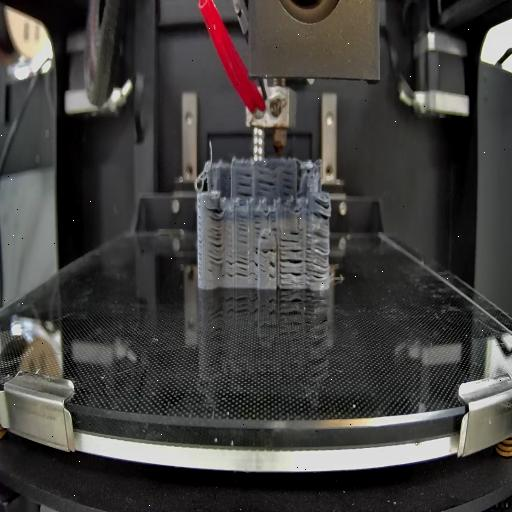cracks: (206, 203, 224, 266), (305, 231, 328, 279), (280, 247, 302, 283), (224, 260, 260, 280), (308, 196, 329, 223), (256, 171, 274, 199), (236, 172, 252, 198), (236, 211, 248, 245), (282, 168, 294, 196), (280, 230, 298, 244), (266, 259, 276, 281), (268, 208, 277, 232), (253, 214, 261, 236), (253, 248, 274, 256), (258, 235, 268, 242)
